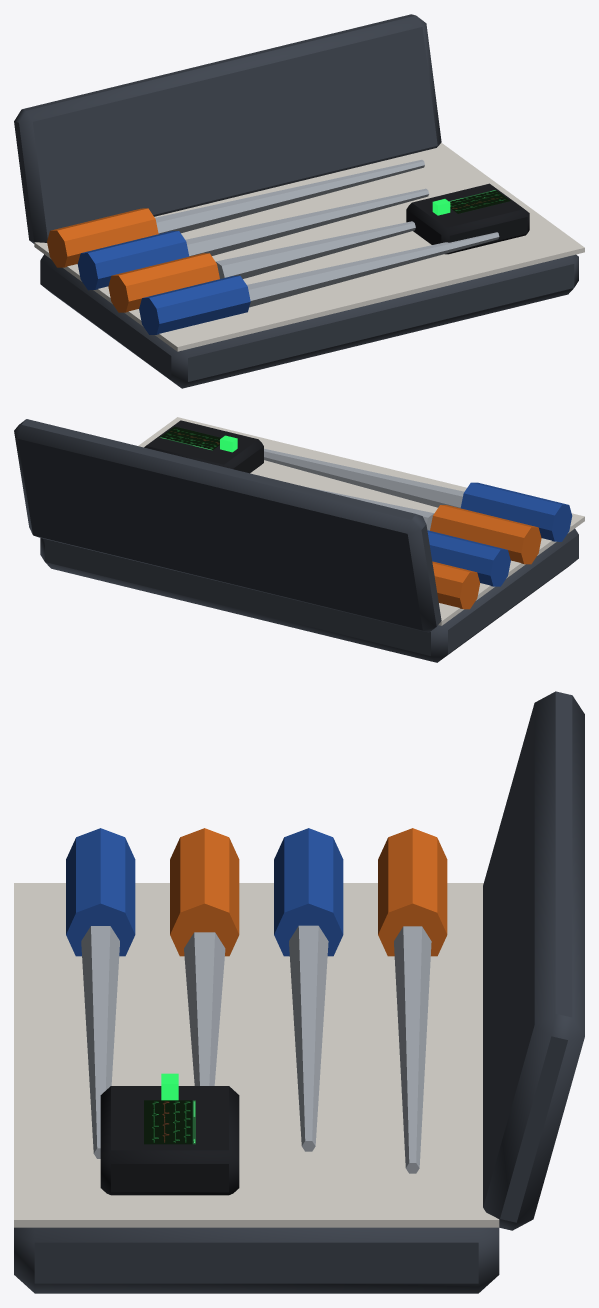
Rendered from sciinstrument_probe_kit.glb.
3 views of the same model, one above another, from view 1: azimuth 30°, elevation 25°; view 2: azimuth 150°, elevation 25°; view 3: azimuth 270°, elevation 25° (orthographic). The views are drawn at different scales.
Visible parts, largest first — view 1: sciinstrument_probe_kit; view 2: sciinstrument_probe_kit; view 3: sciinstrument_probe_kit.
Boxes of the visible parts, bbox=[...] form: sciinstrument_probe_kit: bbox=[14, 14, 584, 388]; sciinstrument_probe_kit: bbox=[14, 417, 584, 662]; sciinstrument_probe_kit: bbox=[14, 691, 584, 1293].
Bounding box in the file's own units: 0.463 × 0.1791 × 0.3294.
Materials: 8 (1 with a texture image).
